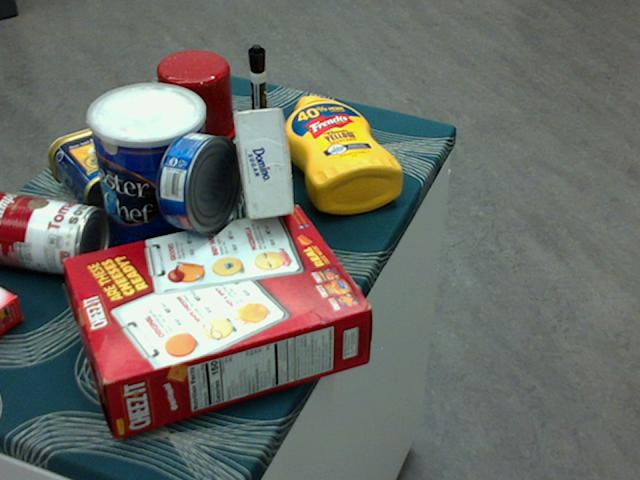cracker_box: (64, 204, 371, 437)
gelatin_box: (0, 285, 25, 336)
large_marker: (248, 43, 267, 148)
master_chef_can: (87, 84, 211, 269)
mug: (155, 51, 237, 150)
mustard_bottle: (282, 94, 402, 213)
potted_meat_can: (47, 118, 174, 216)
sugar_box: (234, 108, 293, 219)
tomato_soup_can: (0, 187, 108, 278)
tuna_fish_can: (156, 131, 242, 233)
